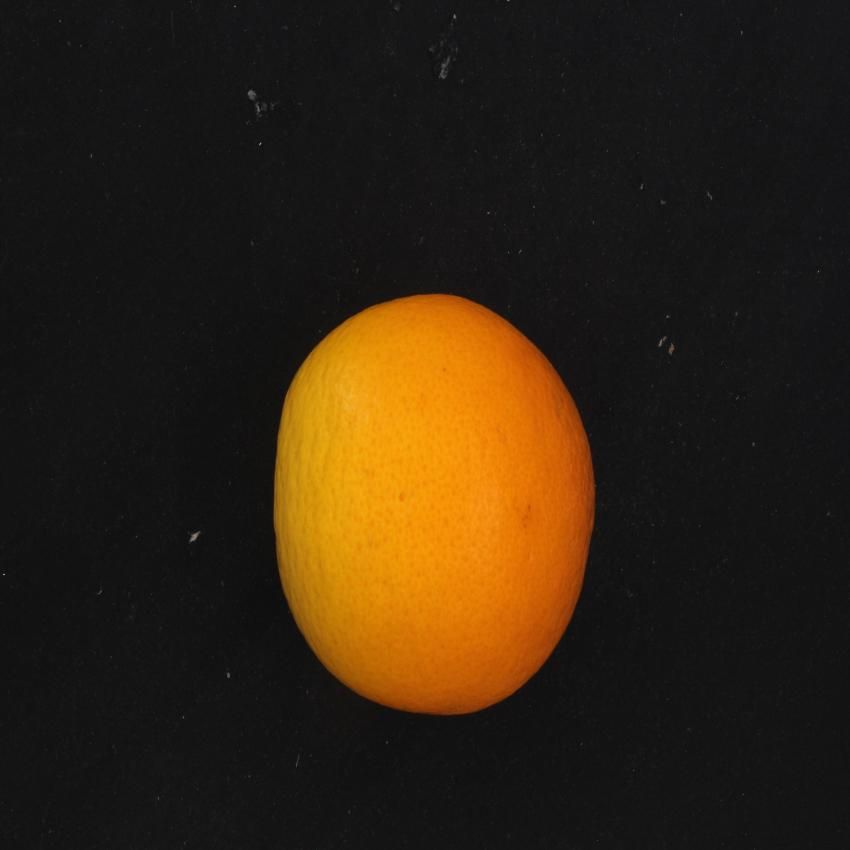Buen estado: (265, 278, 608, 733)
